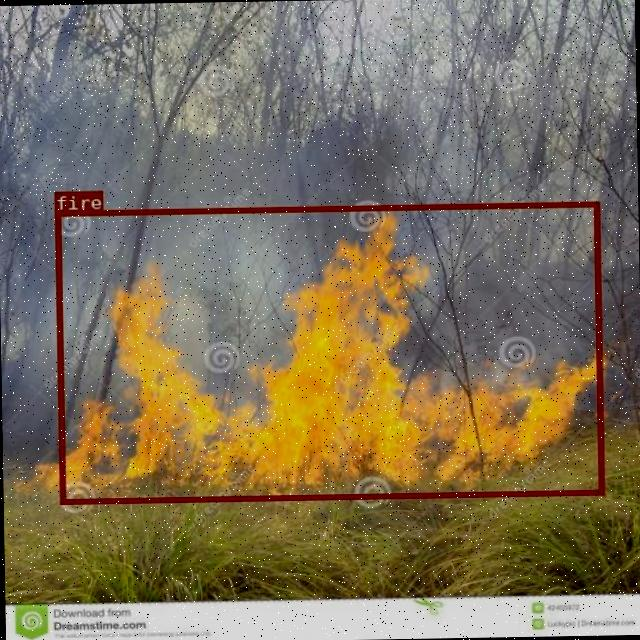fire: (55, 201, 602, 502)
